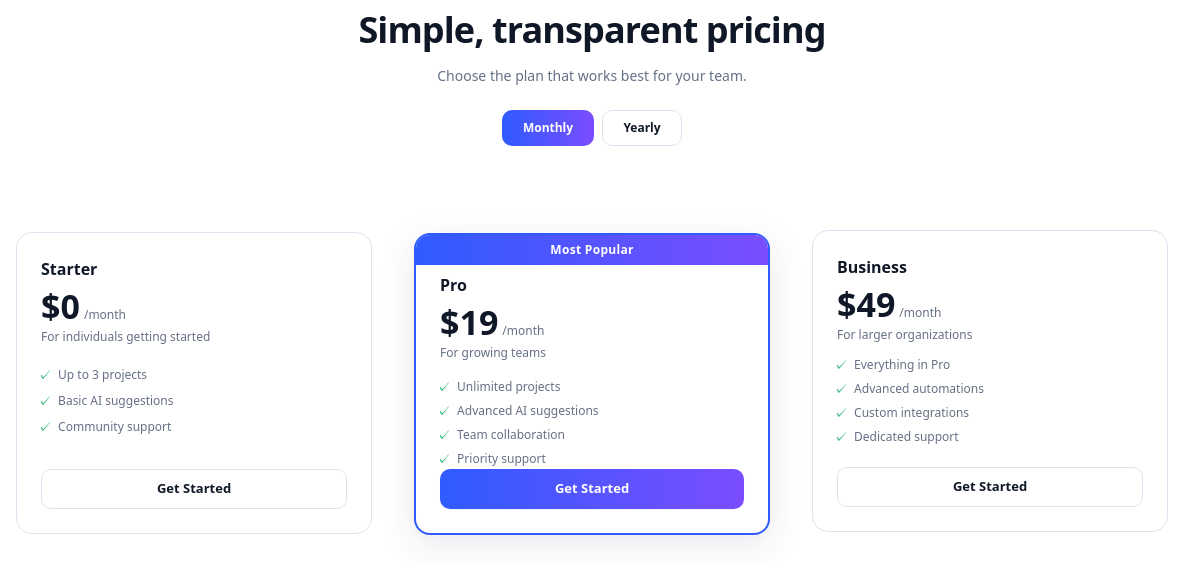
Test case: Pricing › switches to yearly prices and back with the Monthly/Yearly toggle
Click the button "Yearly" at (642, 128), box x1=602 y1=110 x2=682 y2=146
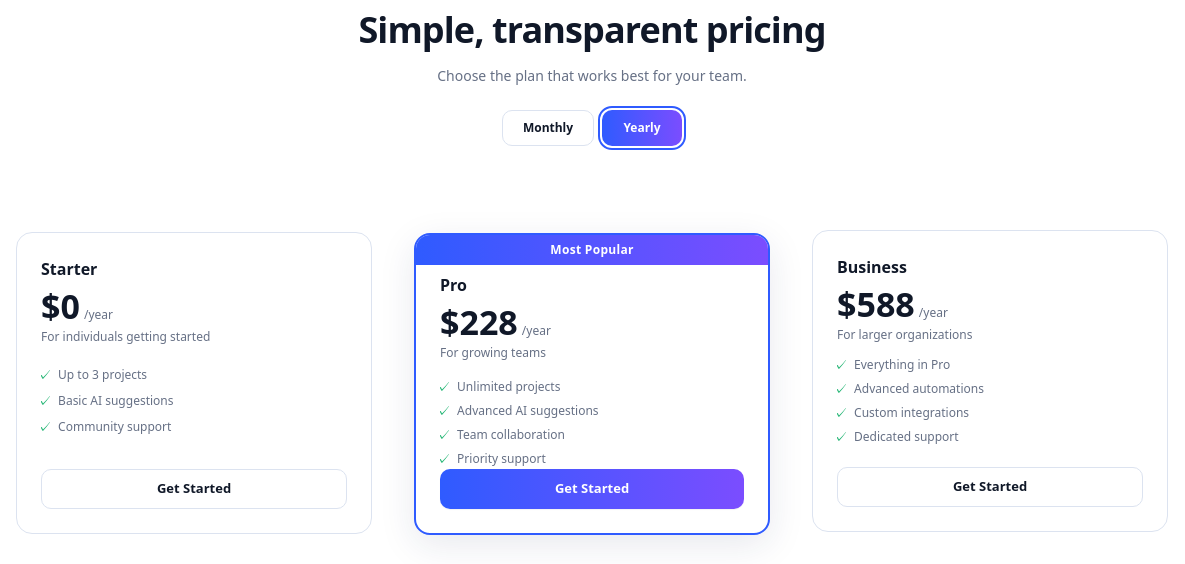
Now the text "$228" is shown, box x1=440 y1=305 x2=518 y2=339
Now the text "/year" next to "$228" is shown, box x1=522 y1=322 x2=551 y2=340
Now the text "$588" is shown, box x1=837 y1=287 x2=915 y2=321
Click the button "Monthly" at (548, 128), box x1=502 y1=110 x2=594 y2=146
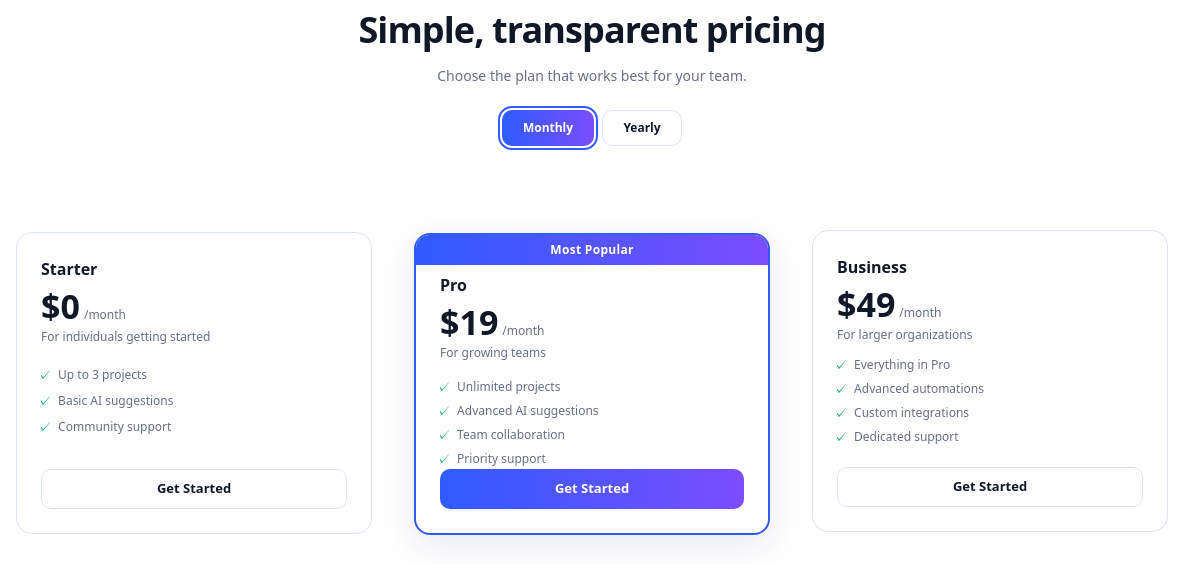
Now the text "$19" is shown, box x1=440 y1=305 x2=498 y2=339
